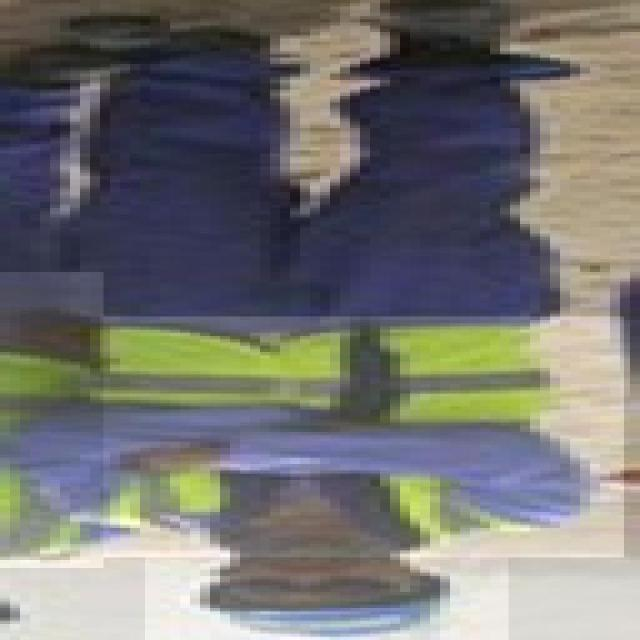Helmet: (145, 529, 509, 640)
Safety Vest: (19, 316, 624, 558), (0, 272, 104, 568)
